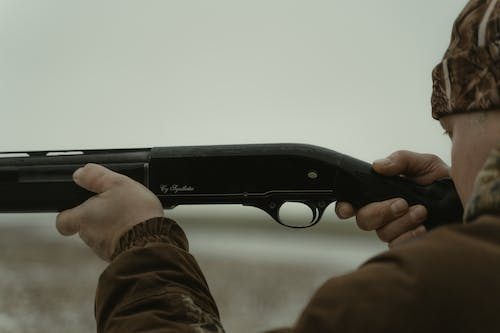gun: (0, 142, 464, 233)
